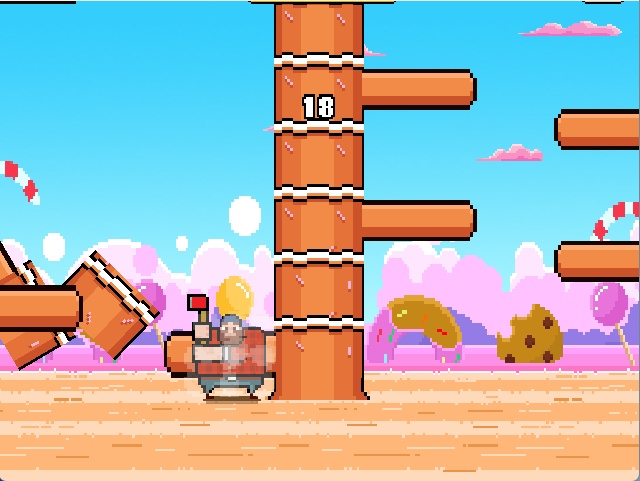right_obs: (355, 184, 481, 250), (358, 57, 484, 117)
timberman: (179, 287, 270, 411)
